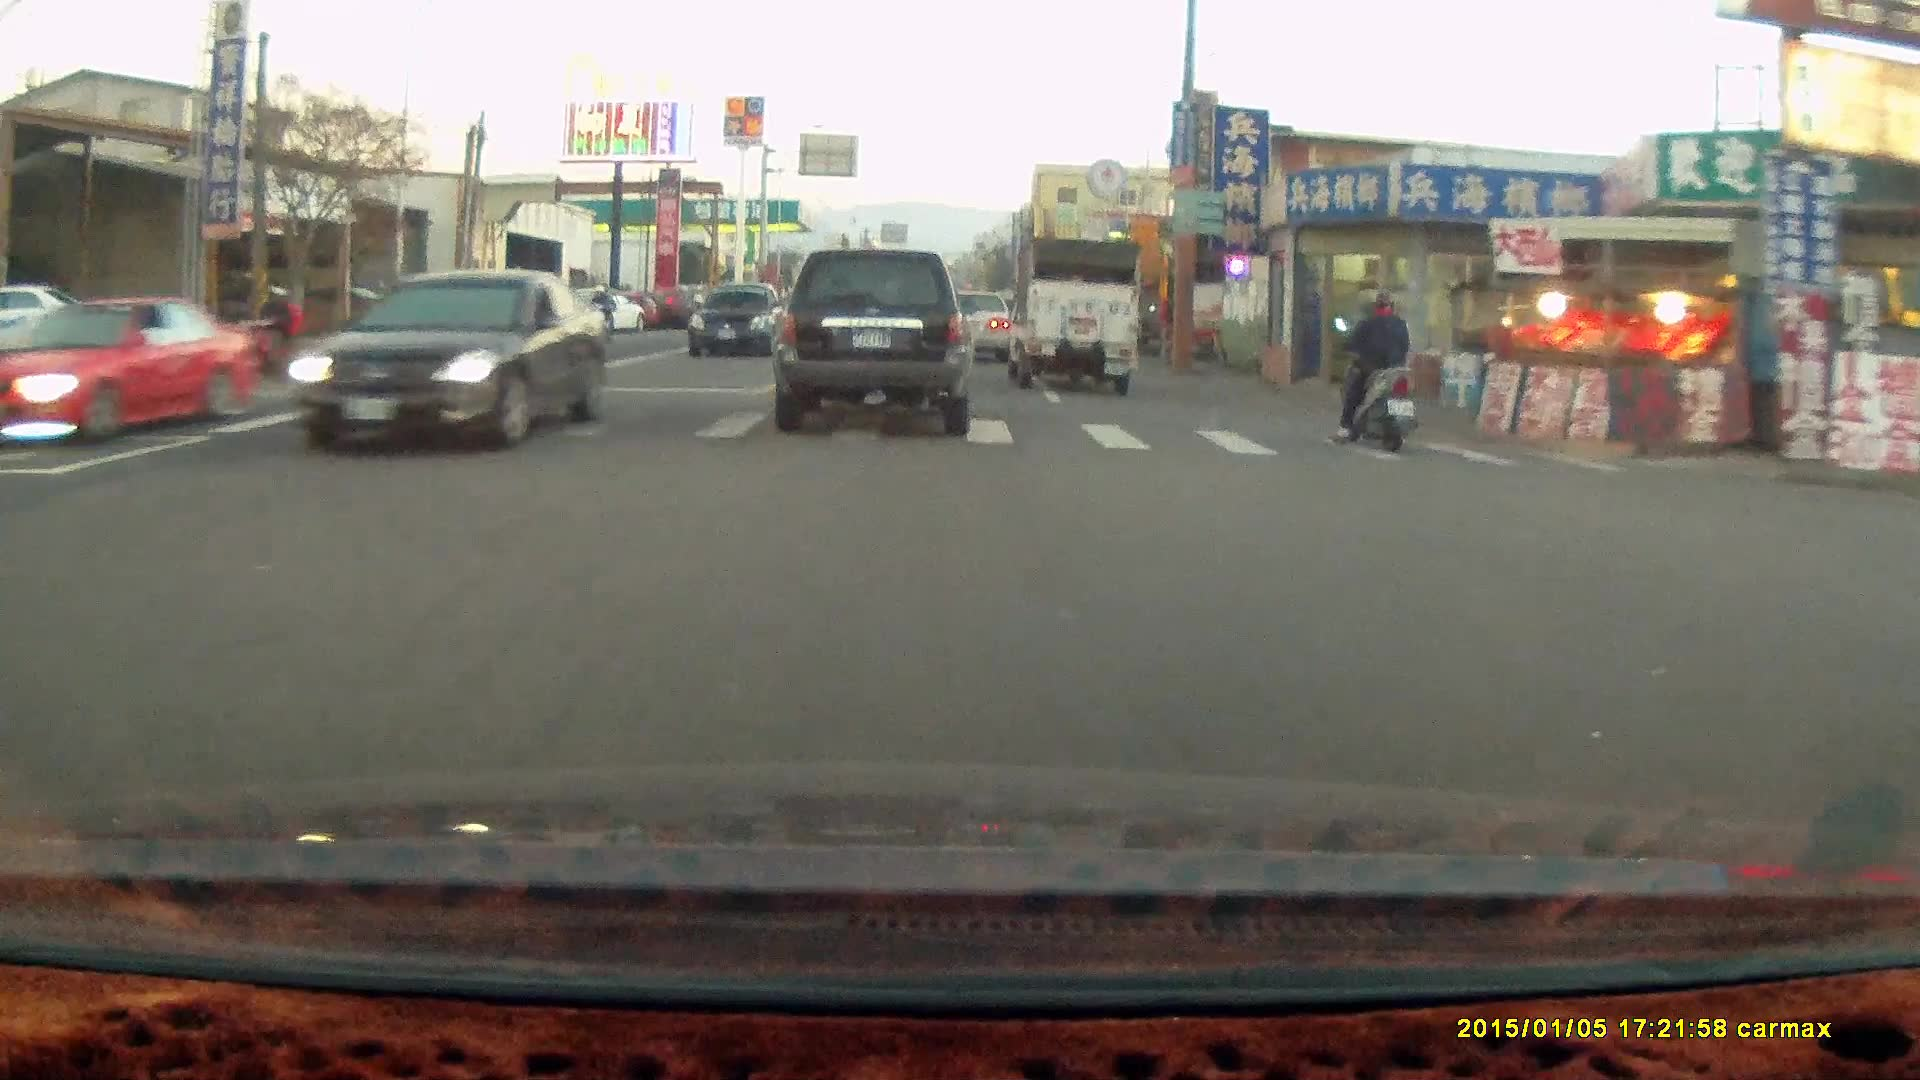rider: (1329, 287, 1420, 453), (238, 277, 298, 377)
vehicle: (286, 271, 612, 454), (1, 301, 277, 450), (771, 251, 978, 439), (1004, 234, 1142, 395), (1, 285, 125, 365), (687, 283, 785, 360), (934, 288, 1011, 363), (950, 288, 1021, 363)
